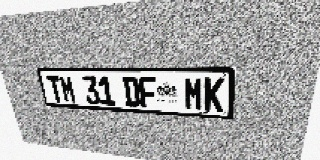1: (96, 76, 115, 106)
3: (82, 76, 101, 105)
D: (122, 76, 141, 107)
F: (138, 77, 157, 108)
K: (204, 77, 225, 112)
M: (184, 77, 204, 111), (59, 76, 77, 103)
T: (46, 76, 65, 103)
